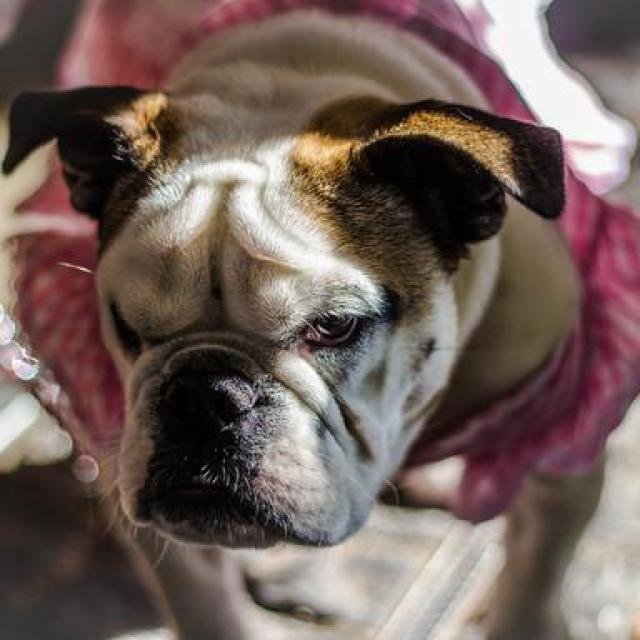angry: (24, 34, 570, 574)
